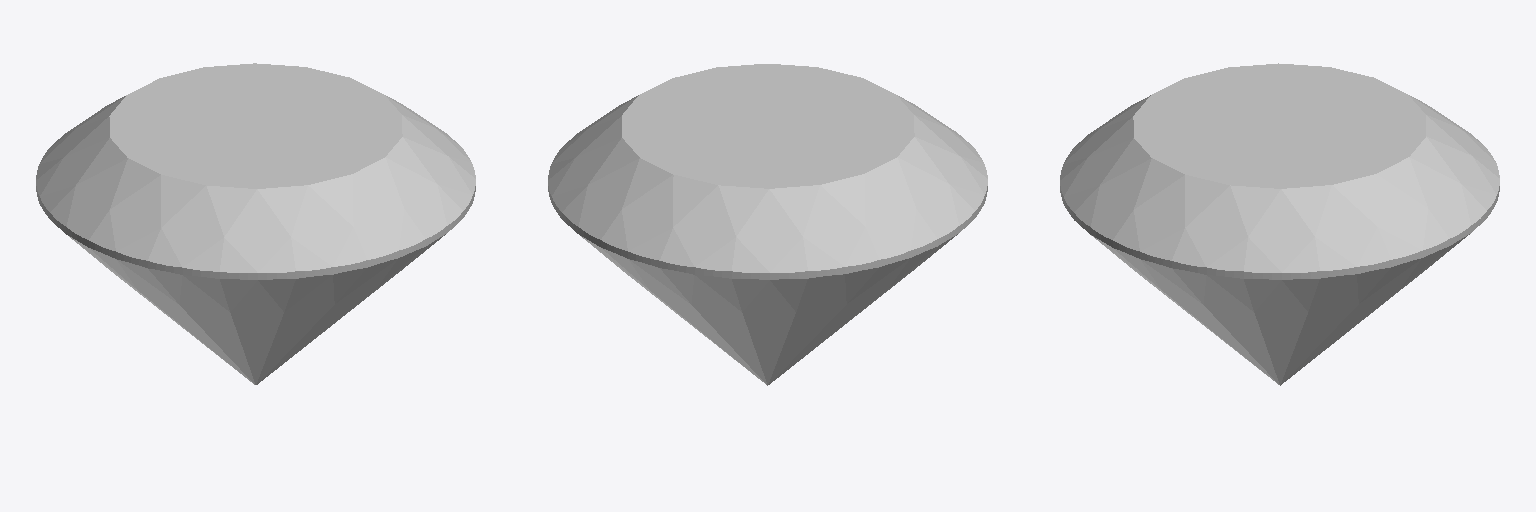
File: diamond.obj
The picture shows the model from 3 angles: view 1: azimuth 30°, elevation 25°; view 2: azimuth 150°, elevation 25°; view 3: azimuth 270°, elevation 25°; orthographic projection.
Visible parts, largest first — view 1: dobj; view 2: dobj; view 3: dobj.
Boxes of the visible parts, x1=… form: dobj: x1=36, y1=63, x2=475, y2=384; dobj: x1=548, y1=64, x2=987, y2=385; dobj: x1=1060, y1=63, x2=1499, y2=385.
Size of the model in its own units: 3.85 by 2.51 by 3.86.